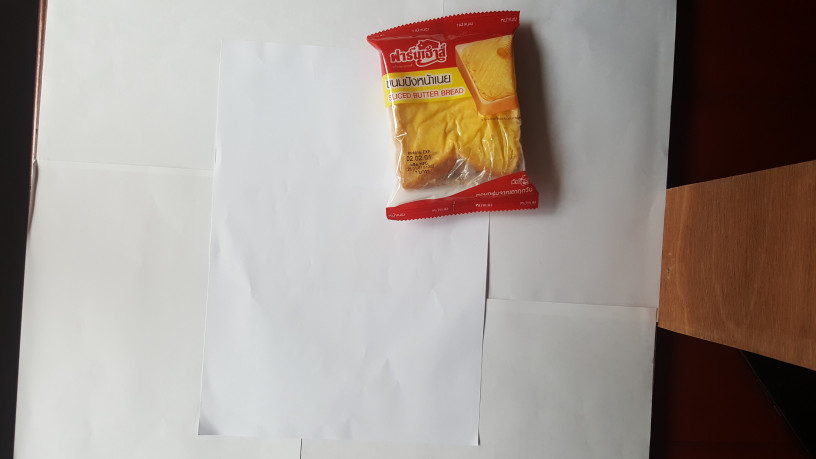farmhouse-bread-butter: (363, 7, 550, 222)
